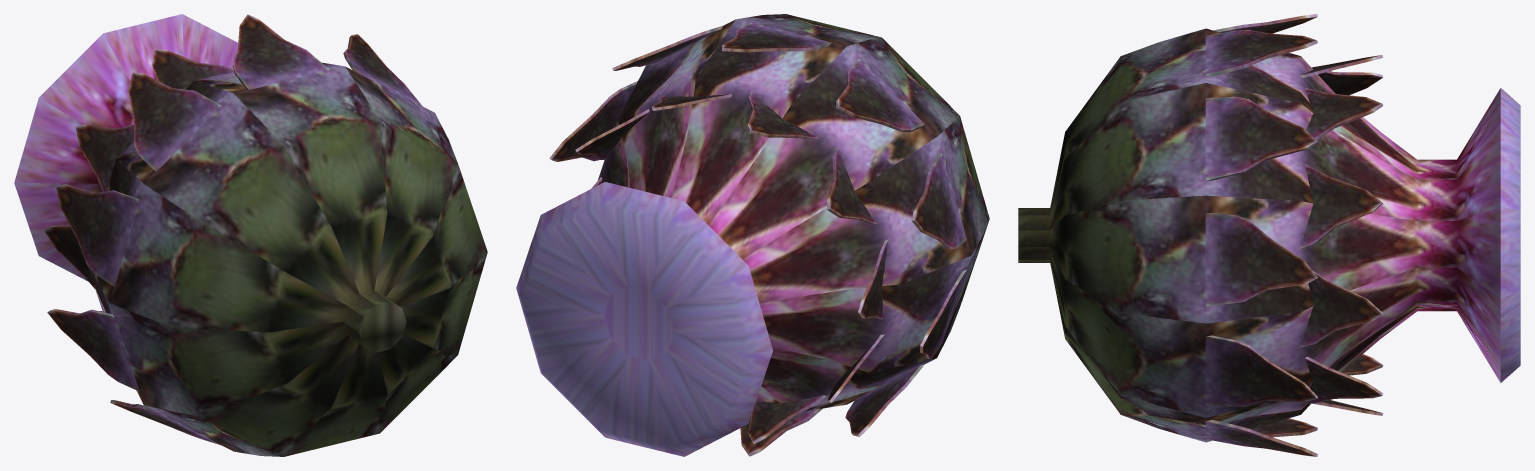
File: Cardoon.fbx
The picture shows the model from 3 angles, left to right: view 1: azimuth 30°, elevation 25°; view 2: azimuth 150°, elevation 25°; view 3: azimuth 270°, elevation 25°; orthographic projection.
Visible parts, largest first — view 1: OuterShell; view 2: OuterShell; view 3: OuterShell.
Boxes of the visible parts, x1,y1,x2,y2 form: OuterShell: (14, 14, 487, 456); OuterShell: (516, 14, 989, 456); OuterShell: (1018, 14, 1520, 456).
Size of the model in its own units: 27.25 by 28.01 by 31.6.
